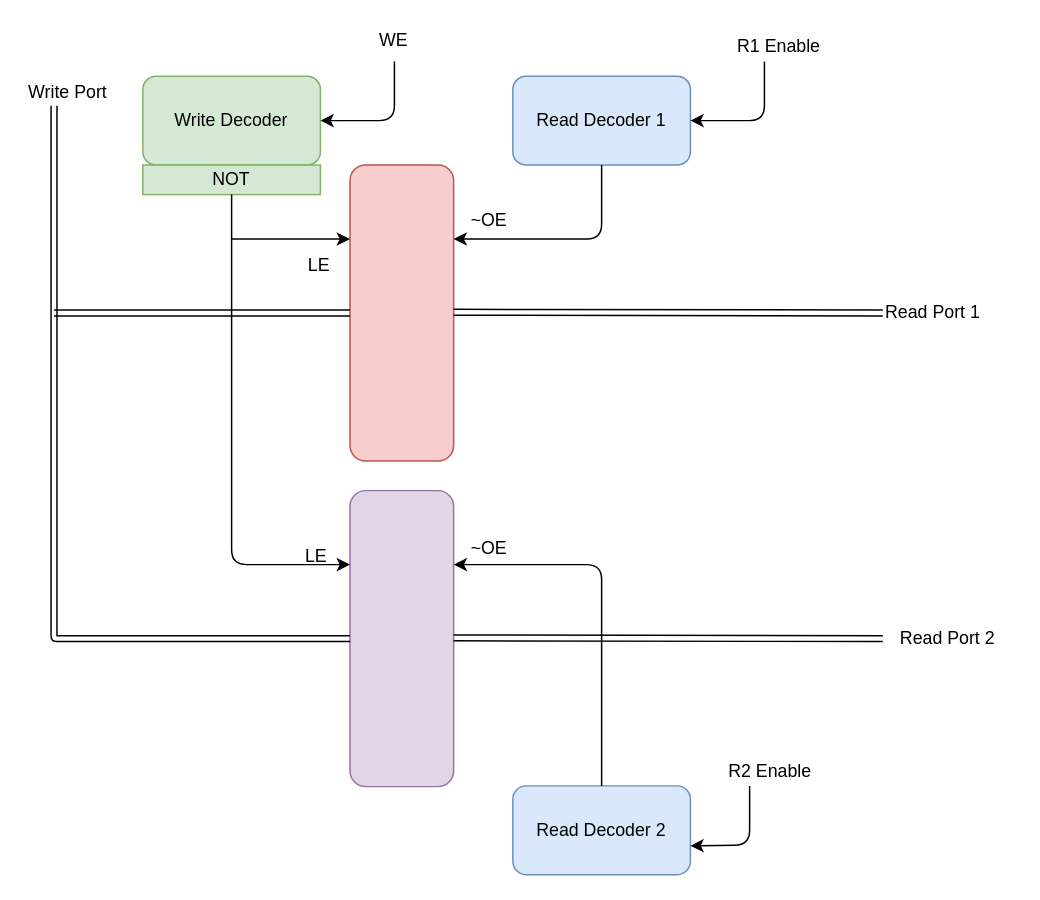
The diagram is 1040 pixels wide and 900 high, and some of its shapes have lost their labels. The centre of each missing label's shape, as x and y in pixels:
"Register Bank A" goes at [401,312].
"Register Bank B" goes at [401,638].
